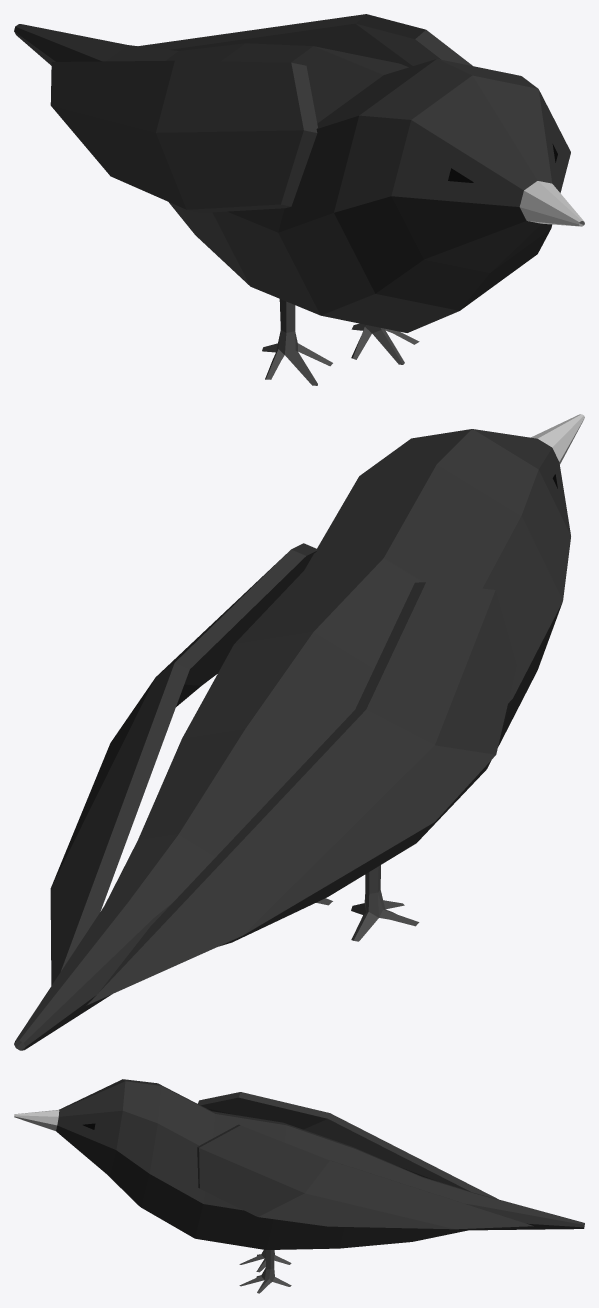
The model's file is Crow.FBX.
3 renders of one model, top to bottom at view 1: azimuth 30°, elevation 25°; view 2: azimuth 150°, elevation 25°; view 3: azimuth 270°, elevation 25°, orthographic. The views are drawn at different scales.
Visible parts, largest first — view 1: Crow; view 2: Crow; view 3: Crow.
Part boxes in pixels (x1,y1,x2,y2): Crow: [14, 14, 584, 385]; Crow: [14, 414, 584, 1050]; Crow: [14, 1079, 584, 1293].
Size of the model in its own units: 0.2891 by 0.3259 by 0.8693.
Materials: 1 (1 with a texture image).
